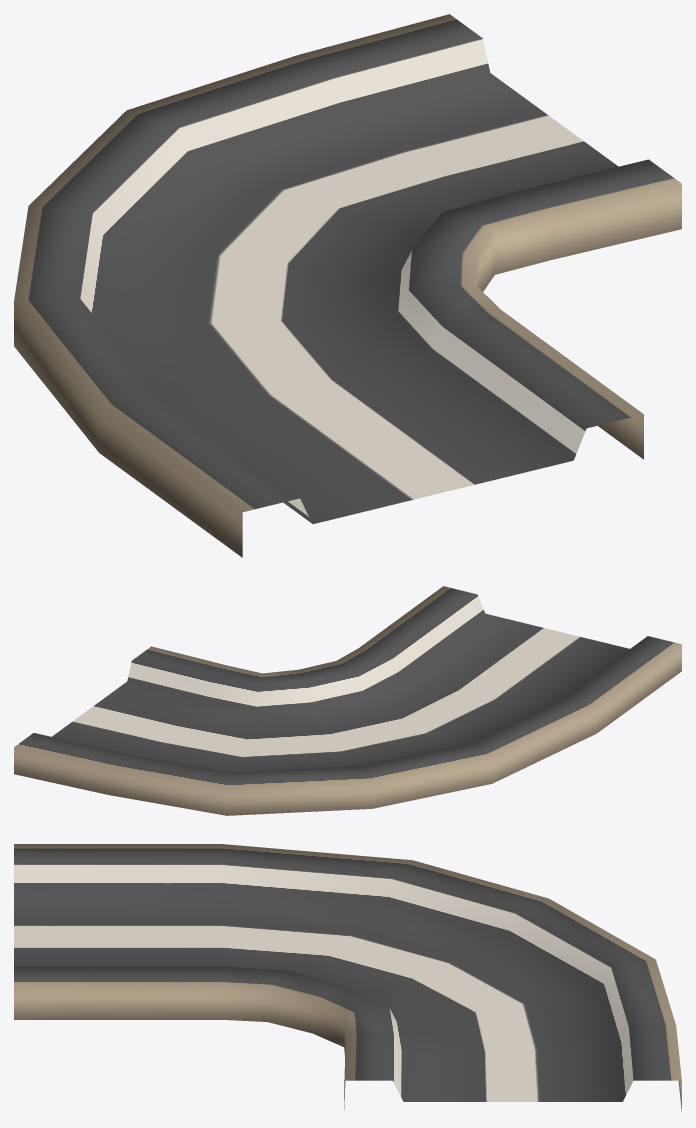
Rendered from roadtest2.FBX.
3 views of the same model, one above another, from view 1: azimuth 30°, elevation 25°; view 2: azimuth 150°, elevation 25°; view 3: azimuth 270°, elevation 25° (orthographic). The views are drawn at different scales.
Parts seen in each view (by area): view 1: Plane001; view 2: Plane001; view 3: Plane001.
Boxes of the visible parts, box(x1,y1,x2,y2) form: Plane001: box(14, 14, 681, 557); Plane001: box(14, 586, 681, 815); Plane001: box(14, 844, 681, 1111).
Size of the model in its own units: 129 by 8.4 by 154.
